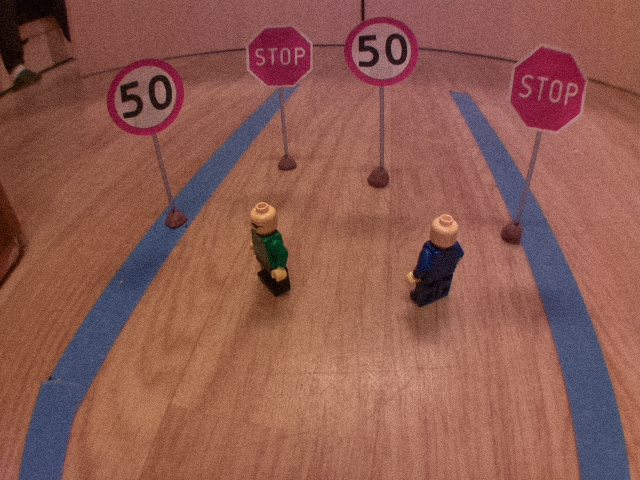LEGO_person: (402, 209, 469, 309), (245, 197, 295, 302)
ogr_50: (102, 55, 188, 138), (342, 13, 421, 89)
stop: (504, 40, 591, 138), (242, 22, 318, 90)
